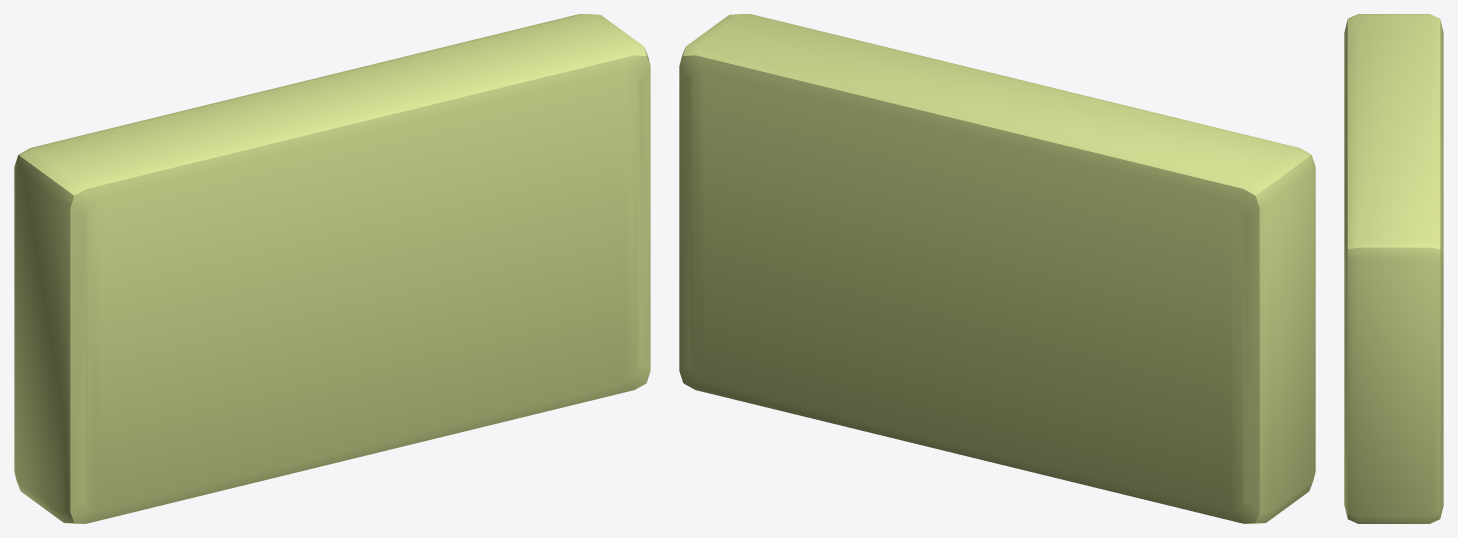
The model's file is Cushion_3.FBX.
The picture shows the model from 3 angles, left to right: view 1: azimuth 30°, elevation 25°; view 2: azimuth 150°, elevation 25°; view 3: azimuth 270°, elevation 25°; orthographic projection. The views are drawn at different scales.
Visible parts, largest first — view 1: Cushion_3; view 2: Cushion_3; view 3: Cushion_3.
Part boxes in pixels (x1,y1,x2,y2): Cushion_3: (14, 14, 650, 523); Cushion_3: (679, 14, 1315, 523); Cushion_3: (1344, 14, 1443, 523).
Bounding box in the file's own units: 1.41 × 0.7845 × 0.2504.
